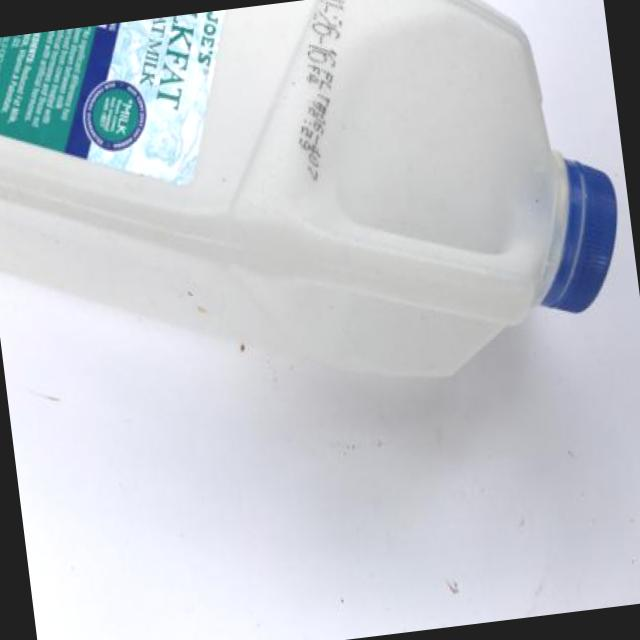Recycle: (0, 0, 635, 430)
